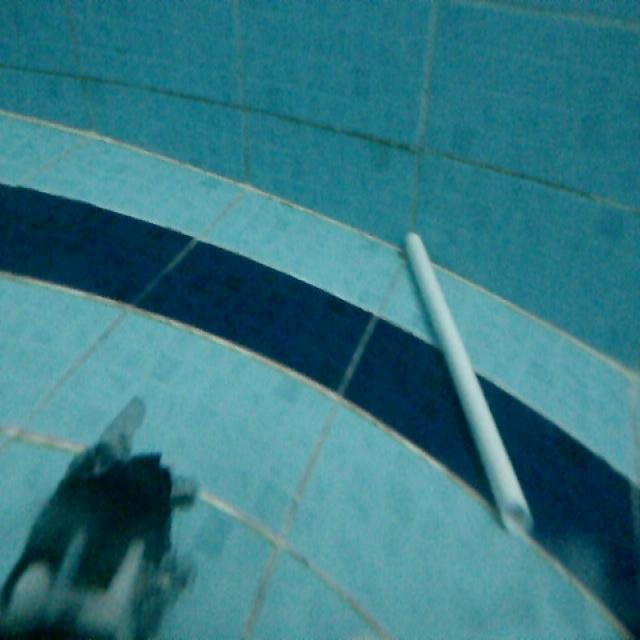Cube: (398, 224, 538, 537)
